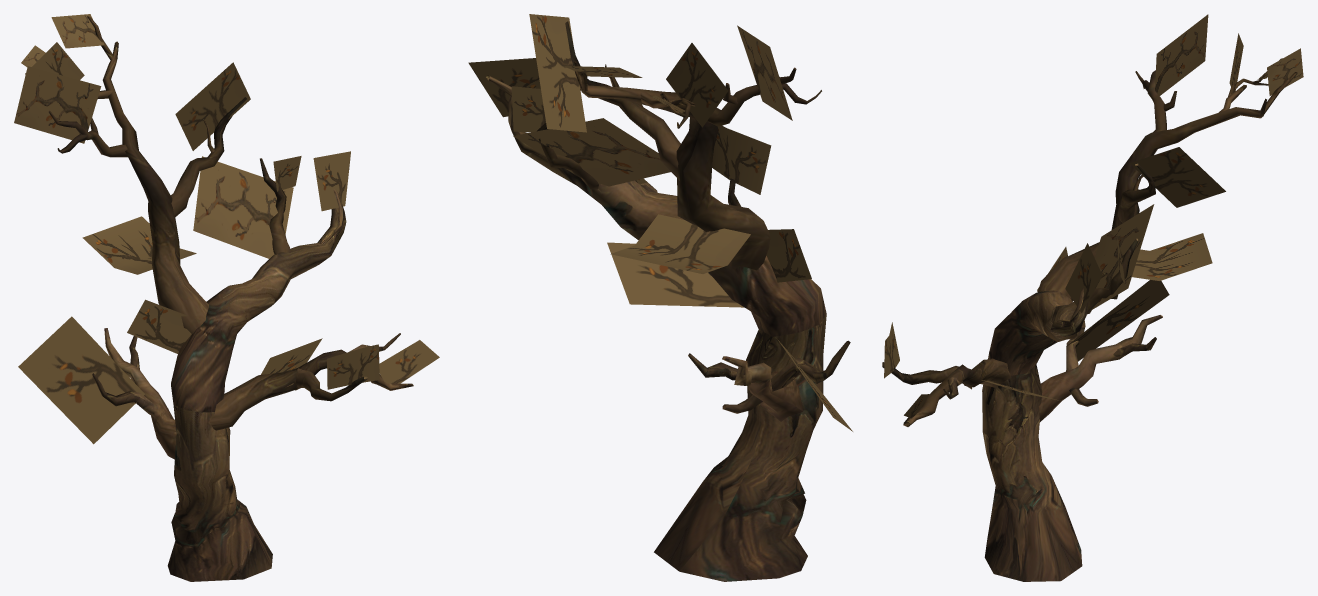
The model's file is Msxg_kushu.FBX.
The picture shows the model from 3 angles, left to right: view 1: azimuth 30°, elevation 25°; view 2: azimuth 150°, elevation 25°; view 3: azimuth 270°, elevation 25°; orthographic projection. The views are drawn at different scales.
Visible parts, largest first — view 1: Msxg_kushu, Msxg_kushuyezi; view 2: Msxg_kushu, Msxg_kushuyezi; view 3: Msxg_kushu, Msxg_kushuyezi.
Part boxes in pixels (bbox=[...]): Msxg_kushu: bbox=[48, 16, 413, 581]; Msxg_kushuyezi: bbox=[14, 14, 439, 444]; Msxg_kushu: bbox=[486, 21, 850, 581]; Msxg_kushuyezi: bbox=[468, 14, 852, 431]; Msxg_kushu: bbox=[882, 70, 1297, 581]; Msxg_kushuyezi: bbox=[884, 14, 1303, 418].
Bounding box in the file's own units: 2788 × 3204 × 4117.
